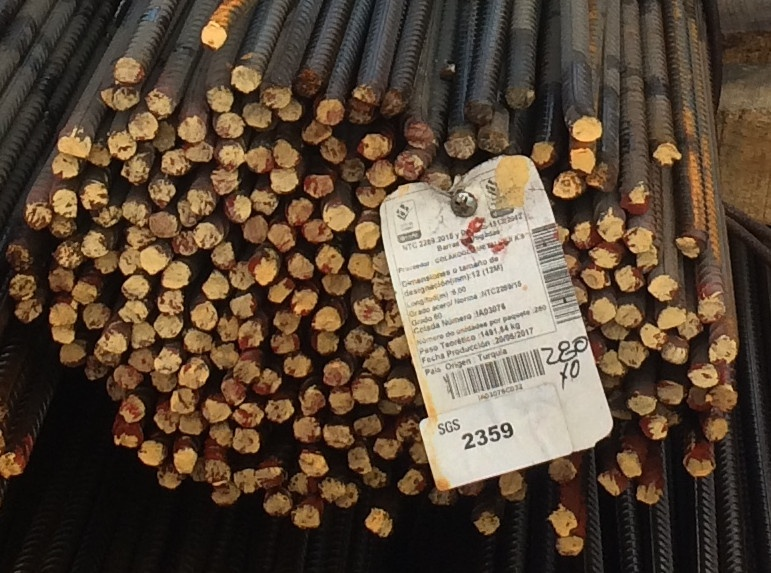dipstick: (314, 244, 344, 274), (358, 133, 392, 159), (588, 163, 617, 193), (618, 339, 648, 368), (180, 357, 208, 388), (499, 472, 528, 501), (365, 507, 393, 537), (129, 113, 158, 141), (386, 377, 415, 405), (366, 159, 395, 187), (596, 214, 624, 243), (615, 265, 644, 293), (149, 178, 176, 208), (354, 298, 384, 325), (552, 171, 582, 198), (648, 275, 678, 302), (232, 403, 264, 428), (57, 132, 90, 156), (589, 243, 622, 267), (80, 180, 108, 208), (6, 244, 34, 272), (549, 508, 577, 536), (53, 241, 82, 268), (299, 386, 326, 415), (406, 122, 435, 149), (621, 186, 648, 215), (616, 449, 643, 478), (478, 129, 508, 155), (531, 140, 557, 170), (572, 116, 602, 142), (323, 424, 354, 449), (274, 141, 302, 168), (24, 201, 51, 229), (162, 262, 190, 289), (323, 358, 350, 386), (363, 348, 390, 376), (395, 153, 422, 181), (571, 221, 598, 249), (661, 336, 688, 364), (709, 335, 736, 363), (324, 203, 353, 229), (141, 246, 167, 275), (202, 271, 228, 300), (191, 302, 217, 331), (149, 212, 179, 237), (687, 363, 718, 387), (247, 146, 274, 173), (224, 195, 251, 222), (121, 158, 148, 185), (81, 230, 108, 257), (398, 469, 425, 496), (698, 296, 725, 323), (588, 297, 615, 324), (148, 90, 176, 116), (178, 116, 206, 142), (232, 66, 260, 92), (295, 70, 321, 98), (115, 59, 144, 84), (355, 221, 380, 250), (238, 320, 263, 349), (114, 421, 143, 446), (445, 136, 475, 160), (639, 416, 669, 440), (674, 237, 706, 259), (211, 168, 238, 194), (119, 394, 145, 421), (548, 458, 575, 484), (216, 113, 244, 138), (269, 224, 294, 252), (252, 368, 280, 393), (654, 141, 682, 166), (709, 387, 737, 412), (53, 189, 77, 218), (243, 103, 272, 127), (312, 307, 341, 331), (138, 442, 167, 466), (292, 505, 321, 529), (266, 400, 295, 424), (582, 265, 611, 289), (207, 85, 233, 111), (218, 143, 244, 169), (60, 343, 86, 369), (229, 263, 255, 289), (294, 416, 320, 442), (640, 323, 666, 349), (657, 379, 683, 405), (201, 21, 226, 48), (109, 132, 134, 159), (271, 169, 298, 194), (349, 253, 374, 280), (274, 309, 301, 334), (211, 343, 238, 368), (122, 202, 150, 226), (154, 314, 182, 338), (507, 87, 535, 111), (120, 276, 149, 299), (299, 452, 328, 475), (304, 175, 334, 197), (118, 301, 148, 323), (98, 331, 128, 353), (356, 186, 386, 208), (686, 453, 716, 475), (91, 207, 122, 228), (188, 189, 214, 214), (131, 323, 156, 349), (287, 254, 313, 279), (233, 428, 259, 453), (346, 330, 372, 355), (346, 97, 372, 122), (570, 148, 595, 174), (162, 152, 189, 176), (9, 276, 36, 300), (212, 482, 239, 506), (263, 492, 290, 516), (194, 224, 222, 247), (93, 344, 121, 367), (49, 303, 77, 326), (14, 299, 42, 322), (284, 355, 312, 378), (302, 221, 334, 241), (302, 121, 331, 143), (555, 535, 584, 557), (155, 120, 176, 150), (126, 227, 156, 248), (114, 367, 144, 388), (155, 349, 180, 374), (292, 290, 317, 315), (321, 139, 346, 164), (52, 154, 78, 178), (244, 216, 268, 242), (48, 268, 74, 292), (84, 303, 110, 327), (382, 91, 406, 117), (626, 228, 652, 252), (679, 313, 703, 339), (288, 198, 311, 225), (212, 243, 235, 270), (157, 290, 184, 313), (155, 406, 178, 433), (348, 448, 371, 475), (465, 102, 492, 125), (636, 245, 657, 274), (317, 100, 342, 124), (230, 294, 254, 319), (205, 459, 229, 484), (354, 379, 378, 404), (251, 190, 277, 213), (233, 361, 259, 384), (157, 466, 183, 489), (319, 479, 345, 502), (355, 83, 381, 106), (473, 511, 499, 534), (264, 86, 291, 108), (184, 330, 211, 352), (223, 378, 245, 405), (174, 447, 196, 474), (658, 307, 685, 329), (636, 483, 663, 505), (354, 415, 382, 436), (322, 274, 351, 294), (269, 278, 293, 302), (171, 389, 195, 413), (329, 390, 353, 414), (119, 250, 142, 275), (373, 274, 396, 299), (129, 350, 155, 372), (429, 485, 459, 504), (255, 258, 276, 285), (204, 401, 231, 422), (628, 394, 656, 414), (335, 484, 358, 508), (597, 472, 620, 496), (686, 388, 709, 412), (72, 281, 97, 303), (616, 305, 641, 327), (374, 438, 400, 459), (256, 467, 283, 487), (210, 424, 233, 447), (173, 232, 195, 256), (234, 469, 256, 493), (342, 159, 364, 183), (114, 88, 139, 109), (95, 252, 118, 274), (388, 335, 410, 358), (703, 418, 726, 440), (218, 317, 238, 342), (186, 144, 212, 163), (51, 219, 77, 238), (271, 335, 300, 352), (178, 202, 198, 226), (86, 357, 107, 379), (287, 471, 308, 493), (180, 414, 202, 435), (90, 144, 110, 167), (397, 420, 420, 440), (318, 332, 339, 353), (364, 468, 387, 487), (278, 102, 302, 120), (152, 375, 177, 392), (107, 376, 124, 401), (602, 324, 627, 340), (52, 325, 74, 343)
